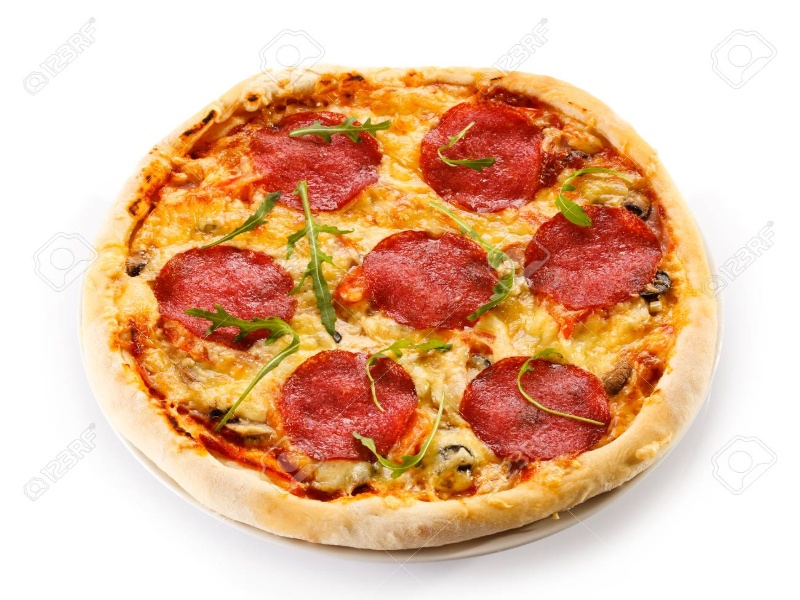pepperonis: (335, 226, 503, 326), (459, 351, 614, 458), (278, 348, 419, 462), (149, 241, 295, 351), (526, 206, 664, 312), (419, 103, 547, 213), (248, 112, 387, 212)
